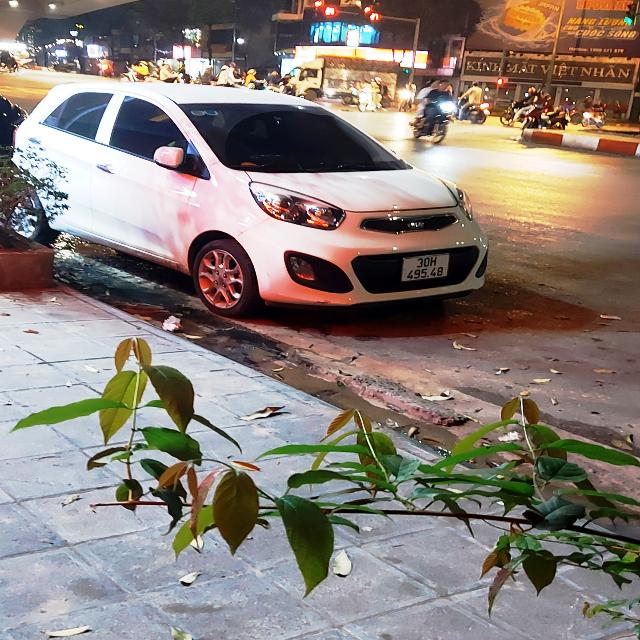license_plate: (404, 256, 451, 283)
